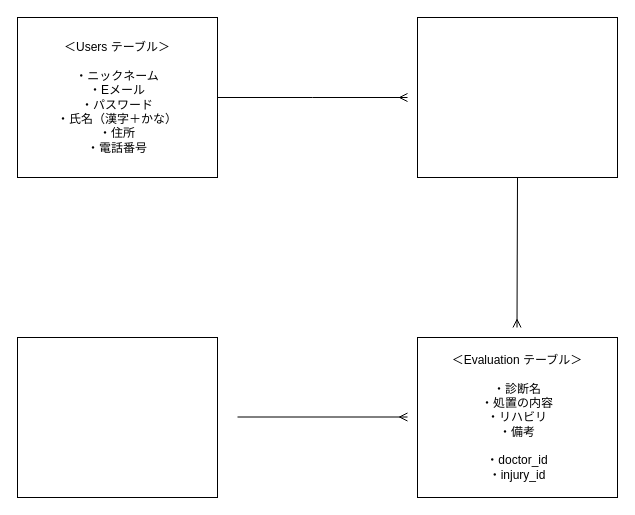
This 635x515 diagram has some shape labels left out. Each missing label, with the box of its shape:
＜Doctors テーブル＞ ・氏名（漢字＋かな） ・Eメール ・パスワード ・所属病院名 ・病院の住所 ・病院の電話番号: (16, 336, 218, 498)
＜Injuries テーブル＞ ・怪我の部位 ・いつ怪我したか ・怪我の原因 ・痛みの種類 ・痛みの出る動き ・痛みの程度 ・備考 ・user_id: (416, 16, 618, 178)
